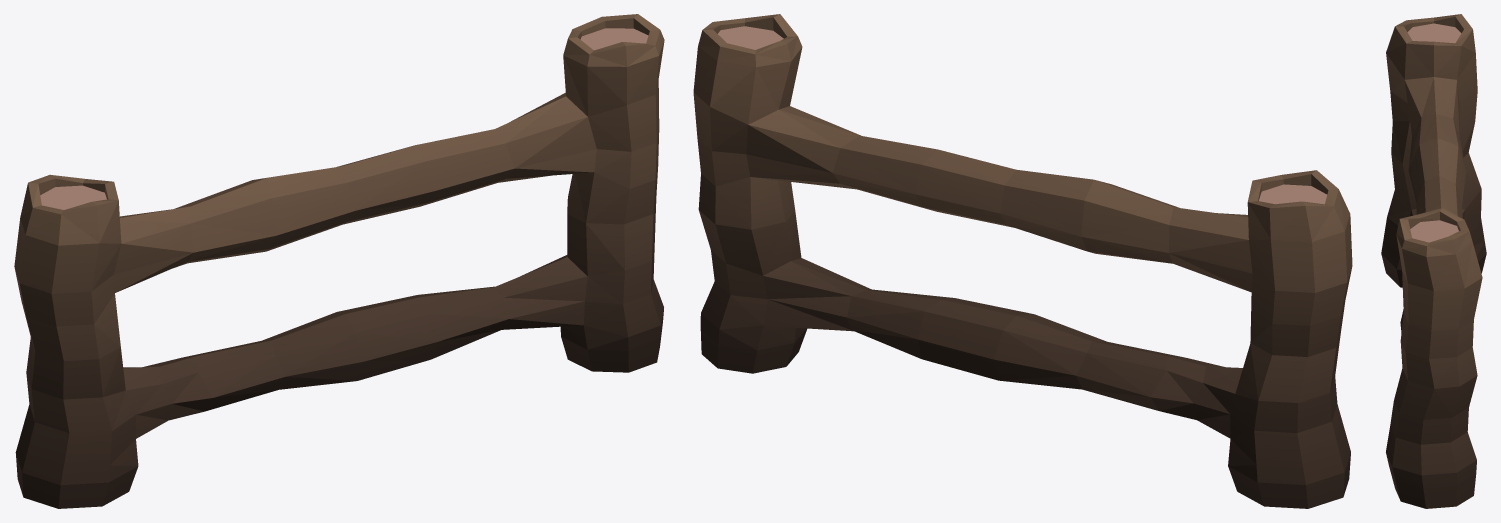
Rendered from Zaun.fbx.
3 views of the same model, side by side, from view 1: azimuth 30°, elevation 25°; view 2: azimuth 150°, elevation 25°; view 3: azimuth 270°, elevation 25° (orthographic). The views are drawn at different scales.
Visible parts, largest first — view 1: Zaun; view 2: Zaun; view 3: Zaun.
Part boxes in pixels (<box>): Zaun: <box>14,14,664,508</box>; Zaun: <box>693,14,1352,508</box>; Zaun: <box>1381,14,1486,508</box>.
Bounding box in the file's own units: 205 × 99.35 × 35.21.
